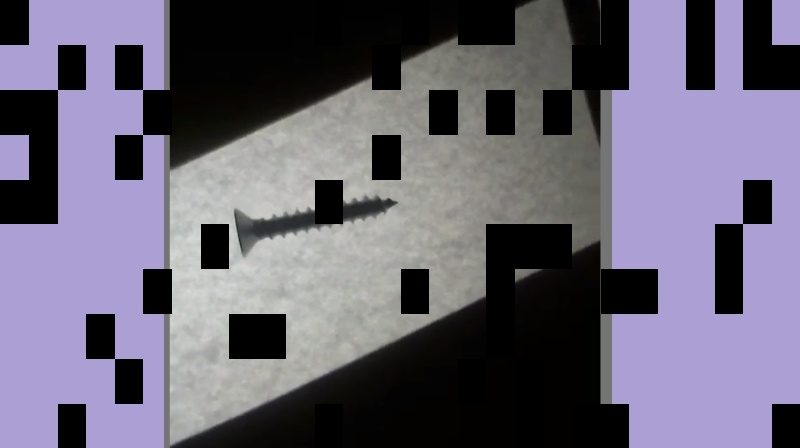S001: (227, 192, 400, 259)
